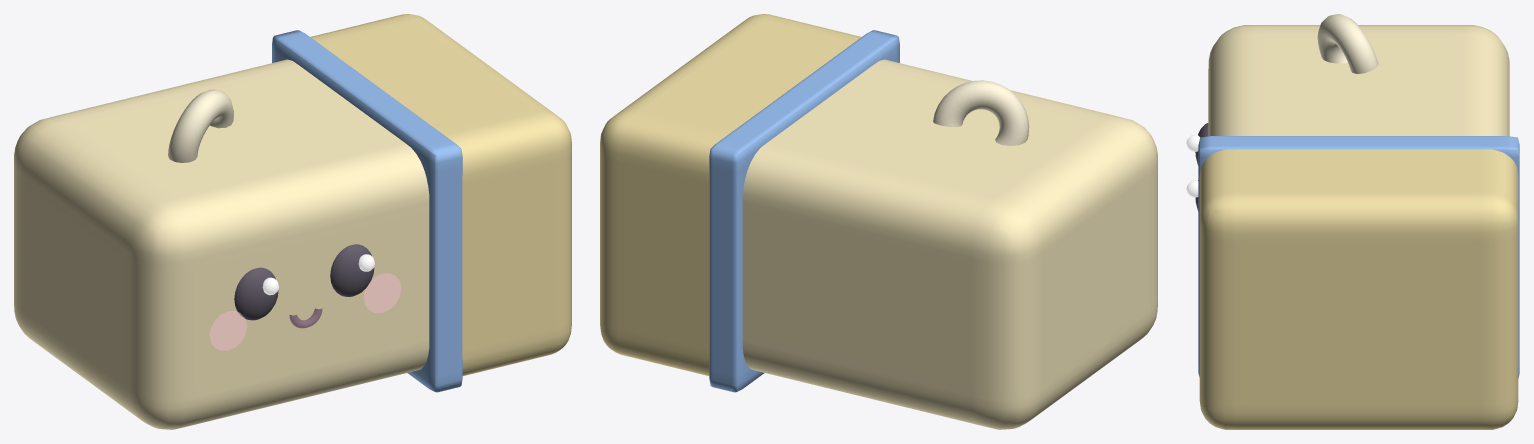
Rendered from squishy_butter.glb.
The picture shows the model from 3 angles, left to right: view 1: azimuth 30°, elevation 25°; view 2: azimuth 150°, elevation 25°; view 3: azimuth 270°, elevation 25°; orthographic projection. The views are drawn at different scales.
Visible parts, largest first — view 1: Body, Part_0, Part_1, Part_2, Part_6, Part_3, Part_5, Part_8; view 2: Body, Part_0, Part_1, Part_2; view 3: Part_0, Body, Part_1, Part_2.
Part boxes in pixels (x1,y1,x2,y2): Body: [14, 59, 429, 429]; Part_0: [310, 14, 571, 375]; Part_1: [272, 30, 462, 392]; Part_2: [168, 89, 233, 162]; Part_6: [330, 244, 374, 296]; Part_3: [234, 267, 278, 320]; Part_5: [209, 311, 247, 350]; Part_8: [363, 273, 401, 313]; Body: [742, 59, 1157, 429]; Part_0: [600, 14, 861, 375]; Part_1: [709, 30, 899, 392]; Part_2: [933, 80, 1029, 145]; Part_0: [1199, 149, 1518, 429]; Body: [1208, 25, 1509, 136]; Part_1: [1198, 136, 1519, 378]; Part_2: [1317, 14, 1378, 73].
Bounding box in the file's own units: 2.48 × 1.59 × 1.73.
